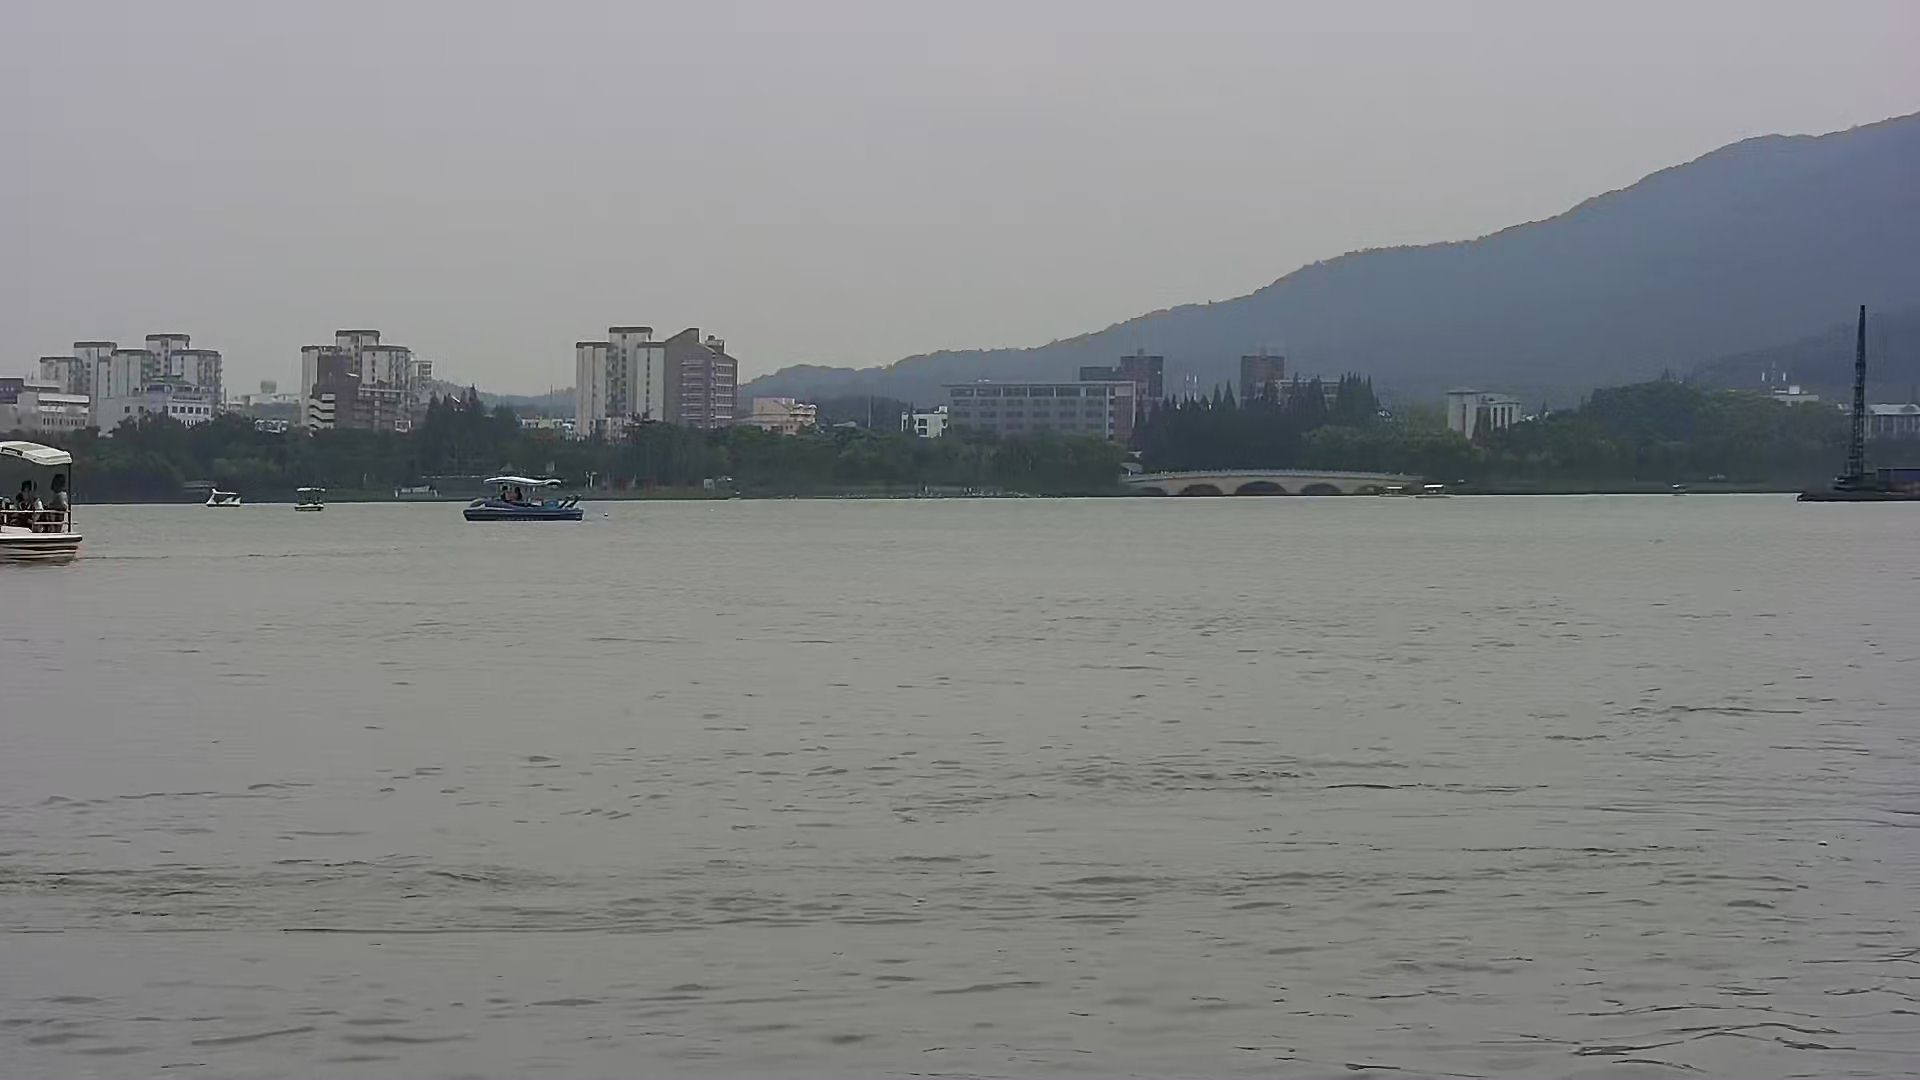boat: (448, 471, 601, 525), (199, 488, 243, 514), (293, 485, 327, 517)
bridge: (1117, 460, 1445, 502)
